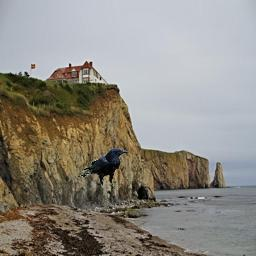Crow: (78, 148, 128, 188)
